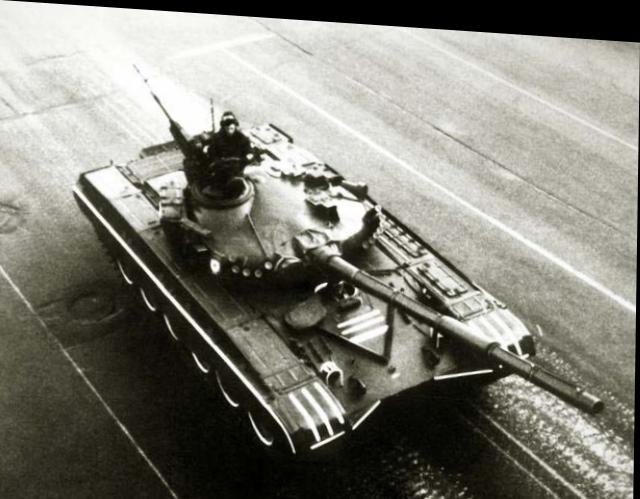other: (218, 108, 249, 156)
tank: (74, 111, 534, 460)
